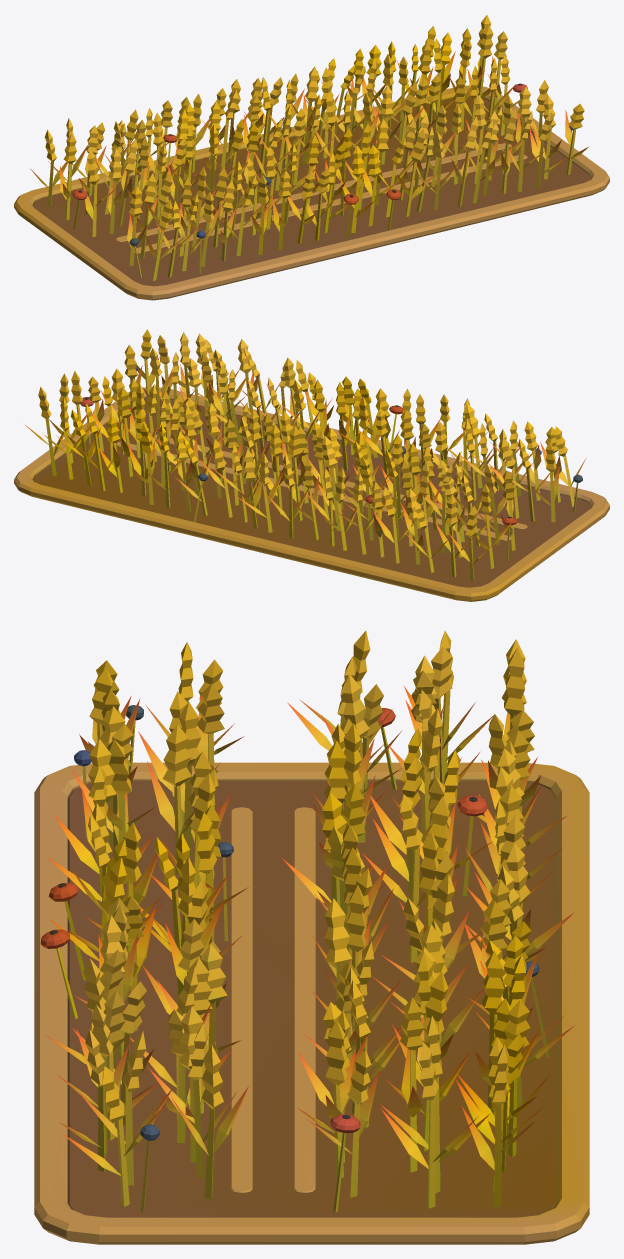
File: Farm_WheatField_6x3m.glb
3 views of the same model, one above another, from view 1: azimuth 30°, elevation 25°; view 2: azimuth 150°, elevation 25°; view 3: azimuth 270°, elevation 25° (orthographic). The views are drawn at different scales.
Visible parts, largest first — view 1: Farm_WheatField_6x3m; view 2: Farm_WheatField_6x3m; view 3: Farm_WheatField_6x3m.
Part boxes in pixels (x1=…): Farm_WheatField_6x3m: x1=14, y1=15, x2=609, y2=300; Farm_WheatField_6x3m: x1=14, y1=329, x2=609, y2=601; Farm_WheatField_6x3m: x1=34, y1=630, x2=589, y2=1244.
Size of the model in its own units: 6 by 1.2 by 3.
